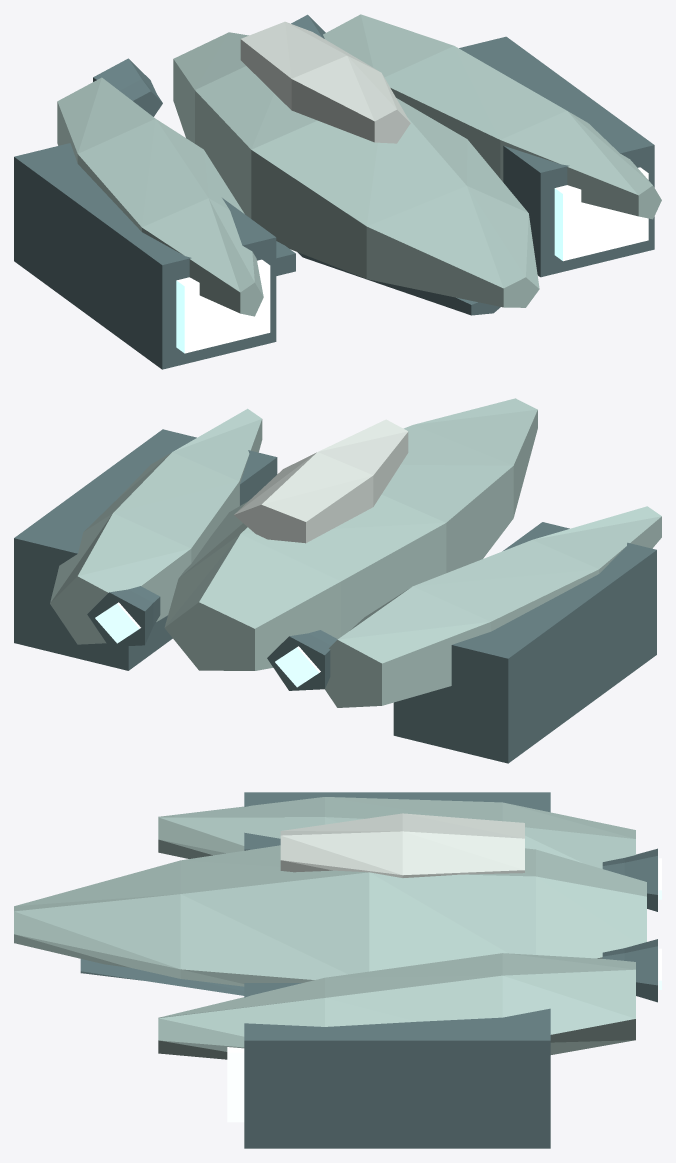
3 views of the same model, one above another, from view 1: azimuth 30°, elevation 25°; view 2: azimuth 150°, elevation 25°; view 3: azimuth 270°, elevation 25° (orthographic). The views are drawn at different scales.
Bounding box in the file's own units: 13.81 × 5.21 × 15.22.
